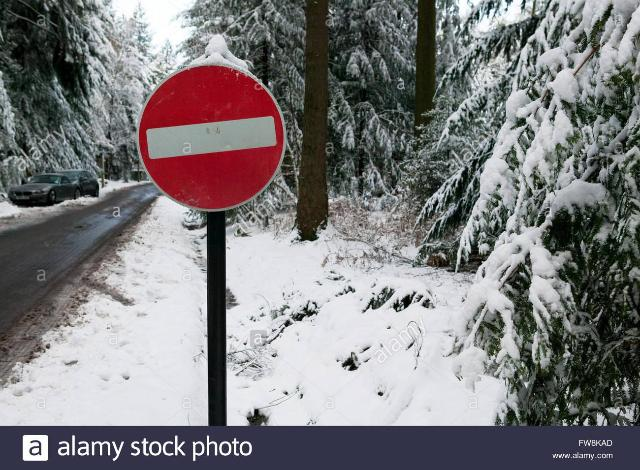B2: (135, 63, 287, 213)
